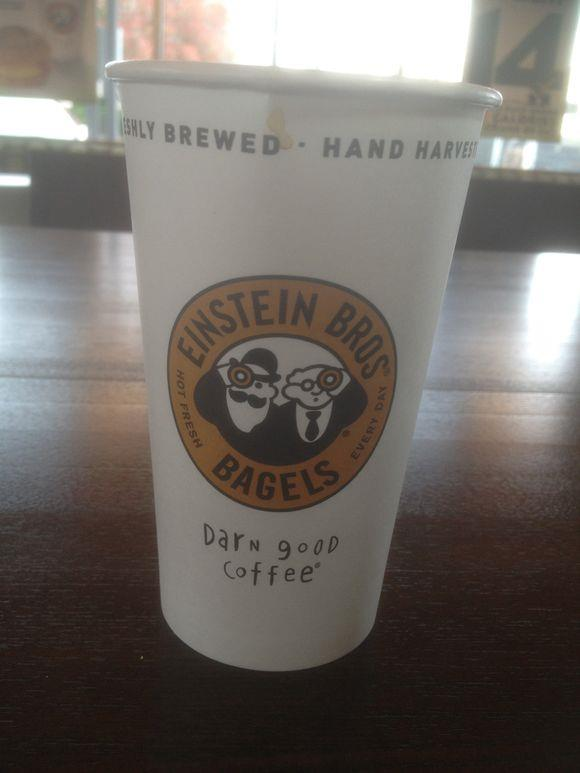einstein_bros: (169, 274, 396, 509)
